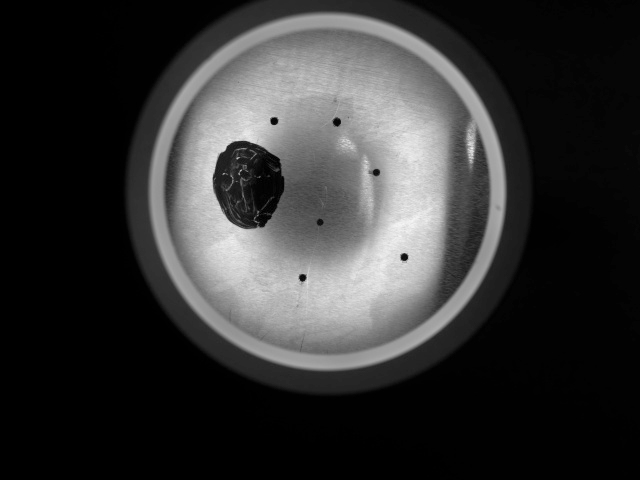zang_wu: (209, 129, 301, 234)
zhen_kong: (391, 247, 417, 269), (261, 109, 284, 133), (365, 162, 387, 182), (327, 112, 349, 132), (292, 270, 313, 289), (309, 213, 330, 231)
